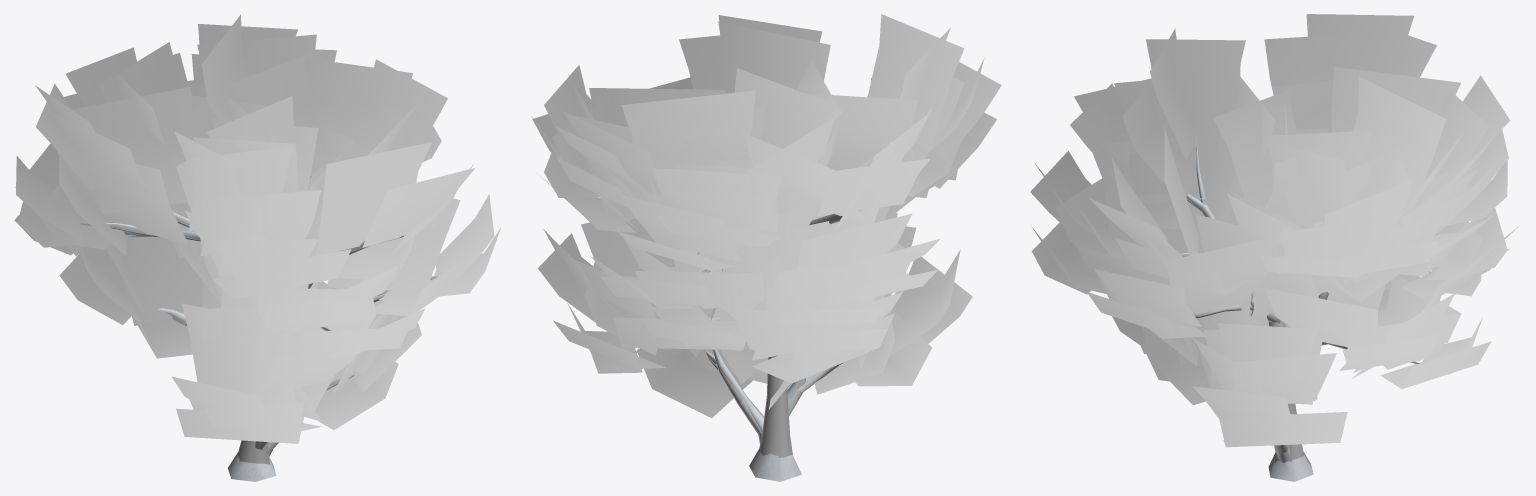
Rendered from Tree_Medium_5_Snow.fbx.
3 views of the same model, side by side, from view 1: azimuth 30°, elevation 25°; view 2: azimuth 150°, elevation 25°; view 3: azimuth 270°, elevation 25° (orthographic). The views are drawn at different scales.
Visible parts, largest first — view 1: Tree_Medium_5_Snow_LOD0, Tree_Medium_5_Snow_Colider; view 2: Tree_Medium_5_Snow_LOD0, Tree_Medium_5_Snow_Colider; view 3: Tree_Medium_5_Snow_LOD0.
Part boxes in pixels (x1,y1,x2,y2): Tree_Medium_5_Snow_LOD0: [14, 14, 501, 481]; Tree_Medium_5_Snow_Colider: [238, 440, 278, 464]; Tree_Medium_5_Snow_LOD0: [531, 14, 1001, 481]; Tree_Medium_5_Snow_Colider: [719, 357, 792, 457]; Tree_Medium_5_Snow_LOD0: [1030, 14, 1519, 481].
Size of what is drawn, in the model's own units: 1668 by 1589 by 1813.
